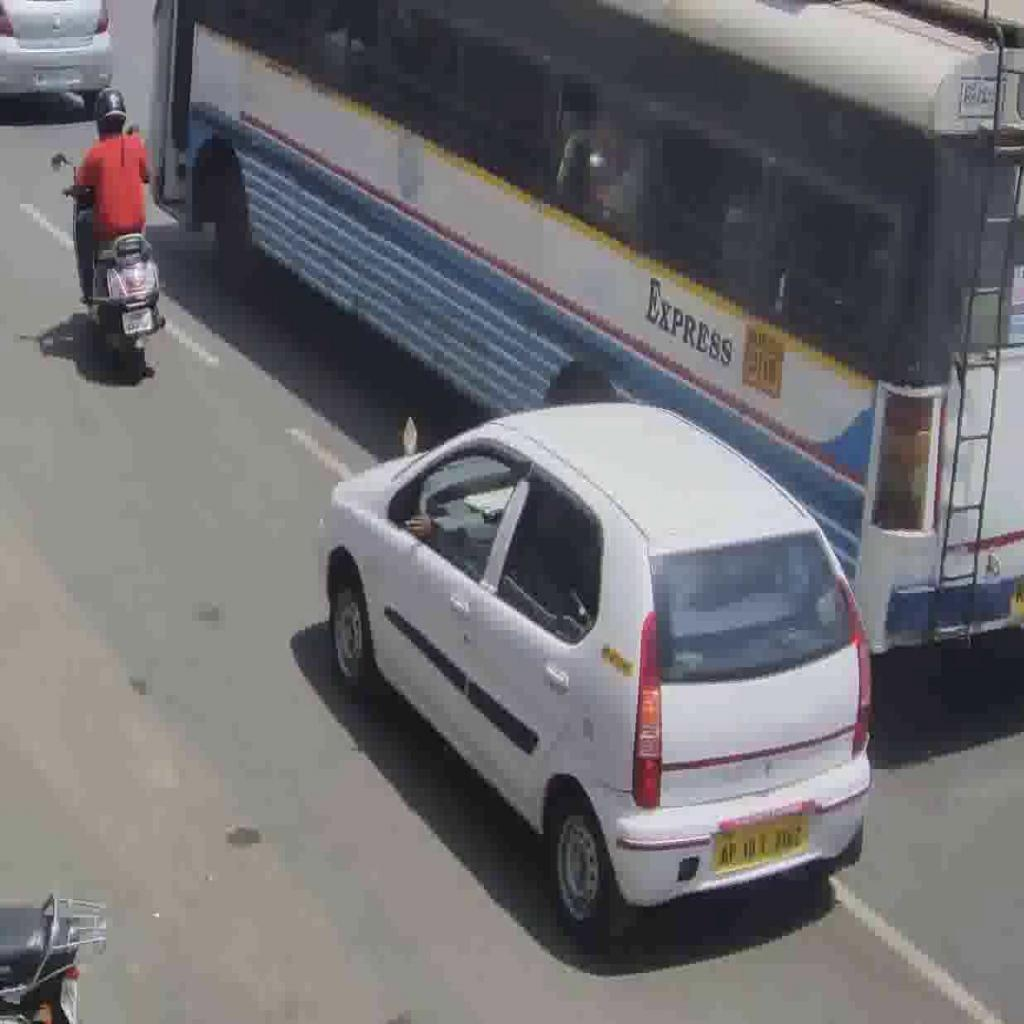helmet: (68, 155, 168, 378)
